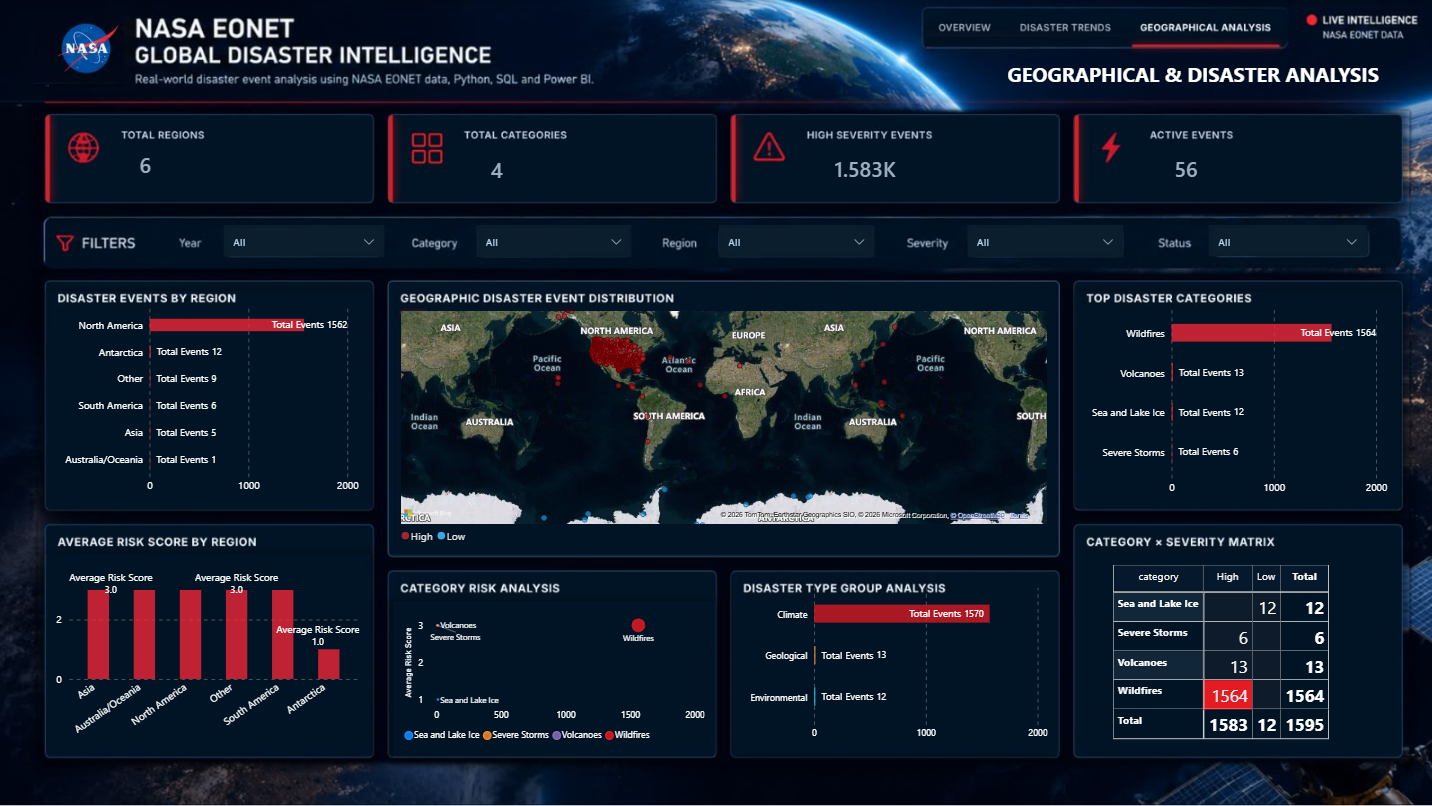

Layout of this report page (visuals, bound fields, positions):
{"tool":"powerbi","page":{"name":"Geographical Analysis","canvas":[1920,1080],"ordinal":2},"visuals":[{"type":"barChart","title":"Severity Distribution","fields":{"Category":["disaster_events.disaster_type_group"],"Y":["disaster_events.Total Events"]},"box":[978.6,764.8,436.7,245],"z":0,"group":"g3"},{"type":"group","id":"g1","title":"Buttons3","box":[1230.7,8.7,483.7,56.3],"z":1000,"group":"g2"},{"type":"actionButton","box":[1230.7,11,127.3,54.1],"z":1000,"group":"g1"},{"type":"scatterChart","fields":{"Series":["disaster_events.category"],"Size":["disaster_events.event_id"],"X":["disaster_events.event_id"],"Y":["disaster_events.Average Risk Score"]},"box":[524.2,803.4,432.8,208.6],"z":1000,"group":"g3"},{"type":"actionButton","box":[1358,8.7,162.2,55.8],"z":2000,"group":"g1"},{"type":"clusteredColumnChart","title":"Disaster Events by Type Group","fields":{"Category":["disaster_events.region"],"Y":["disaster_events.Average Risk Score"]},"box":[59.3,740.1,437.9,275.9],"z":2000,"group":"g3"},{"type":"actionButton","box":[1515.5,11,198.8,54.1],"z":3000,"group":"g1"},{"type":"clusteredBarChart","title":"Disaster Events by Category","fields":{"Category":["disaster_events.category"],"Y":["disaster_events.Total Events"]},"box":[1436.7,390,433.3,291.7],"z":3000,"group":"g3"},{"type":"group","id":"g2","title":"Geographical Analysis","box":[42.1,8.7,1827.9,1022.4],"z":3001},{"type":"group","id":"g3","title":"Group 1","box":[42.1,17.7,1827.9,1013.3],"z":3002,"group":"g2"},{"type":"textbox","box":[1346.5,80.2,523.3,59.3],"z":3002},{"type":"clusteredBarChart","title":"Disaster Events by Category","fields":{"Category":["disaster_events.region"],"Y":["disaster_events.Total Events"]},"box":[62,389.8,433.3,290],"z":4000,"group":"g3"},{"type":"map","title":"Global Disaster Event Map","fields":{"Series":["disaster_events.severity"],"X":["disaster_events.longitude"],"Y":["disaster_events.latitude"]},"box":[520.3,401.5,895,345],"z":5000,"group":"g3"},{"type":"pivotTable","title":"Event Status","fields":{"Columns":["disaster_events.severity"],"Rows":["disaster_events.category"],"Values":["CountNonNull(disaster_events.event_id)"]},"box":[1472.1,741,353.3,290],"z":6000,"group":"g3"},{"type":"image","box":[42.1,17.7,126.9,100.2],"z":7000,"group":"g3"},{"type":"cardVisual","fields":{"Data":["disaster_events.Total Regions"]},"box":[171,178.6,130.8,85.5],"z":8000,"group":"g3"},{"type":"cardVisual","fields":{"Data":["disaster_events.High Severity Events"]},"box":[1098.9,190.8,137.8,69.8],"z":9000,"group":"g3"},{"type":"cardVisual","fields":{"Data":["disaster_events.Total Categories"]},"box":[640.2,183.9,136,85.5],"z":10000,"group":"g3"},{"type":"cardVisual","fields":{"Data":["disaster_events.Active Events"]},"box":[1552.4,192.6,109.9,66.3],"z":11000,"group":"g3"},{"type":"slicer","fields":{"Values":["disaster_events.year"]},"box":[298.6,301.2,214.2,42.5],"z":12000,"group":"g3"},{"type":"slicer","fields":{"Values":["disaster_events.category"]},"box":[635.8,302.1,207.1,43.4],"z":13000,"group":"g3"},{"type":"slicer","fields":{"Values":["disaster_events.region"]},"box":[960.5,301.2,208,43.4],"z":14000,"group":"g3"},{"type":"slicer","fields":{"Values":["disaster_events.severity"]},"box":[1292.4,302.1,208,43.4],"z":15000,"group":"g3"},{"type":"slicer","fields":{"Values":["disaster_events.status"]},"box":[1615.4,302,211,41.9],"z":16000,"group":"g3"}]}

Visuals, with their boxes in screenshot pixels (x1, y1, x2, y2), scaled from the page's 1920x1080 canvas onto the 1432x806 screenshot:
"Severity Distribution" barChart: bbox=(730, 571, 1056, 754)
"Buttons3" group: bbox=(918, 6, 1279, 49)
actionButton: bbox=(918, 8, 1013, 49)
scatterChart - disaster_events.category x disaster_events.event_id: bbox=(391, 600, 714, 755)
actionButton: bbox=(1013, 6, 1134, 48)
"Disaster Events by Type Group" clusteredColumnChart: bbox=(44, 552, 371, 758)
actionButton: bbox=(1130, 8, 1279, 49)
"Disaster Events by Category" clusteredBarChart: bbox=(1072, 291, 1395, 509)
"Geographical Analysis" group: bbox=(31, 6, 1395, 770)
"Group 1" group: bbox=(31, 13, 1395, 769)
textbox: bbox=(1004, 60, 1395, 104)
"Disaster Events by Category" clusteredBarChart: bbox=(46, 291, 369, 507)
"Global Disaster Event Map" map: bbox=(388, 300, 1056, 557)
"Event Status" pivotTable: bbox=(1098, 553, 1361, 769)
image: bbox=(31, 13, 126, 88)
cardVisual - disaster_events.Total Regions: bbox=(128, 133, 225, 197)
cardVisual - disaster_events.High Severity Events: bbox=(820, 142, 922, 194)
cardVisual - disaster_events.Total Categories: bbox=(477, 137, 579, 201)
cardVisual - disaster_events.Active Events: bbox=(1158, 144, 1240, 193)
slicer - disaster_events.year: bbox=(223, 225, 382, 257)
slicer - disaster_events.category: bbox=(474, 225, 629, 258)
slicer - disaster_events.region: bbox=(716, 225, 872, 257)
slicer - disaster_events.severity: bbox=(964, 225, 1119, 258)
slicer - disaster_events.status: bbox=(1205, 225, 1362, 257)
